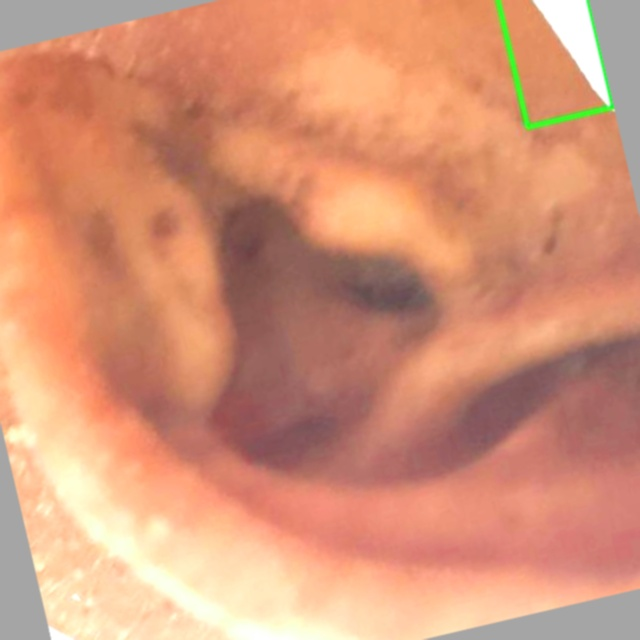Contact Dermatitis: (498, 0, 612, 127)
